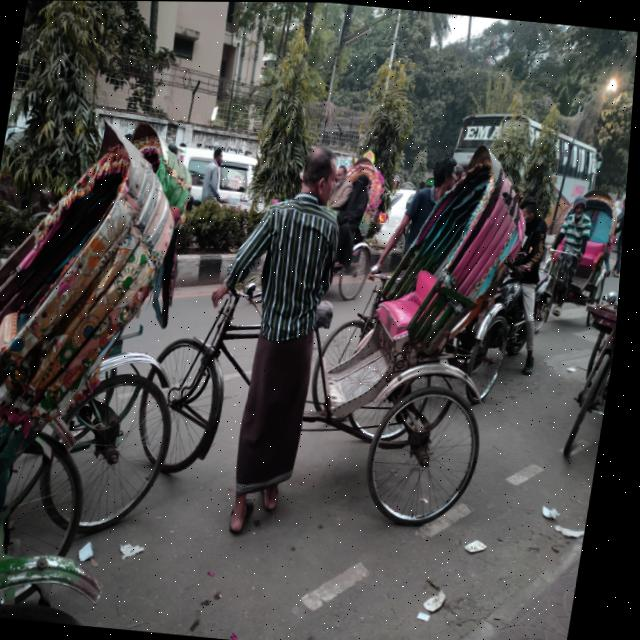rikshaw: (130, 93, 551, 546)
